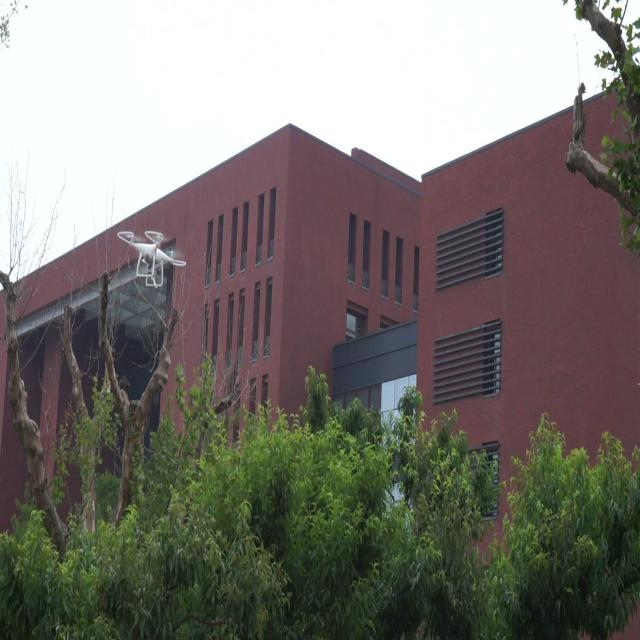drone: (115, 227, 187, 288)
